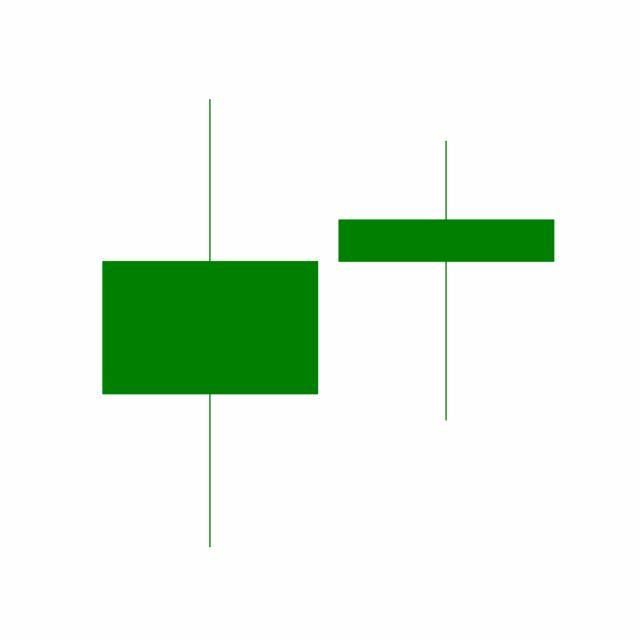Spinning Top: (328, 137, 566, 425)
